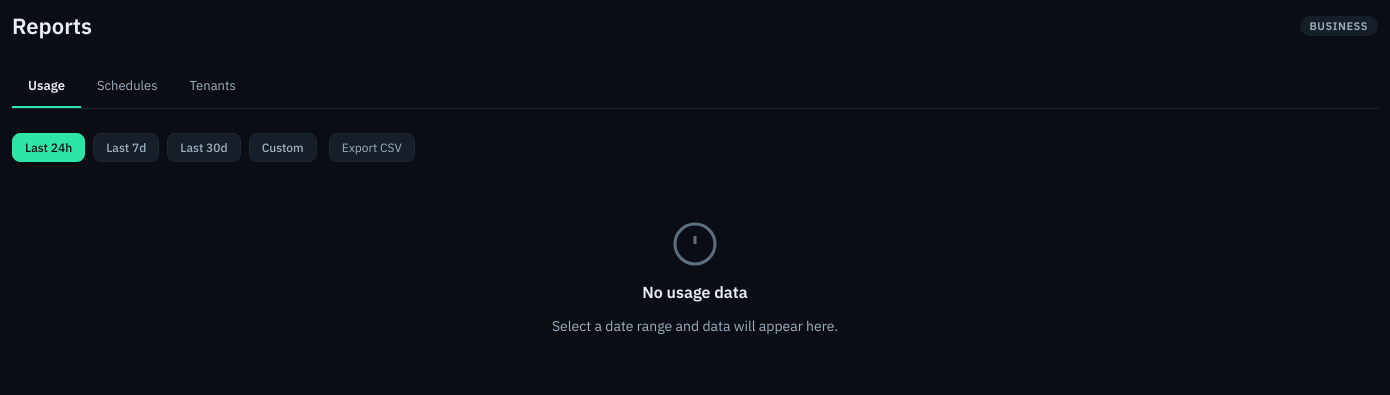
Scenario: ReportsPage tenants tab › shows empty state when no tenants configured
Click the tab "Tenants".
click(213, 86)  # box [174,64,252,108]
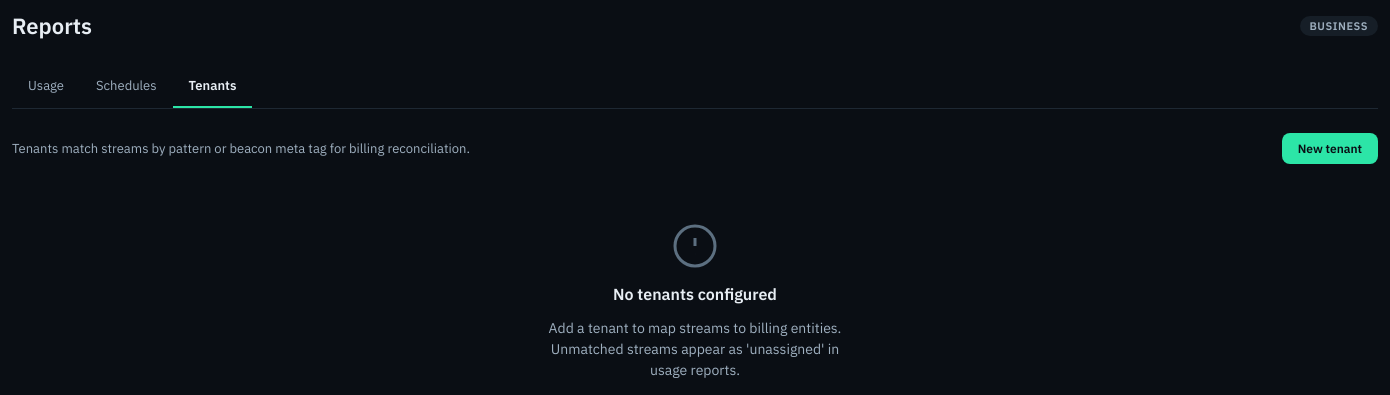
Result: the heading "No tenants configured" is shown at [613,282,777,306]
